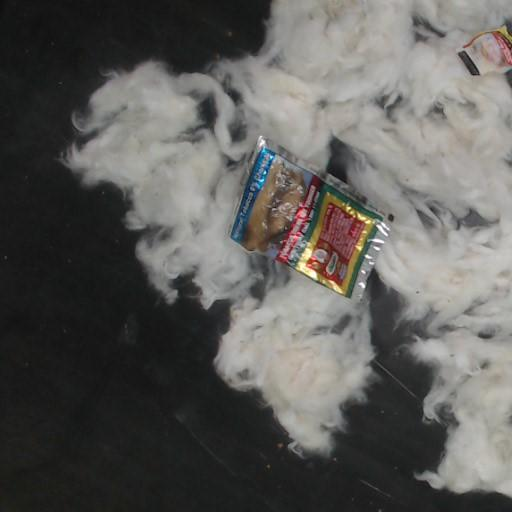conveyor belt: (328, 139, 347, 179), (201, 99, 215, 127)
cotton: (65, 0, 511, 496)
packet: (230, 136, 393, 299), (457, 25, 511, 76)
